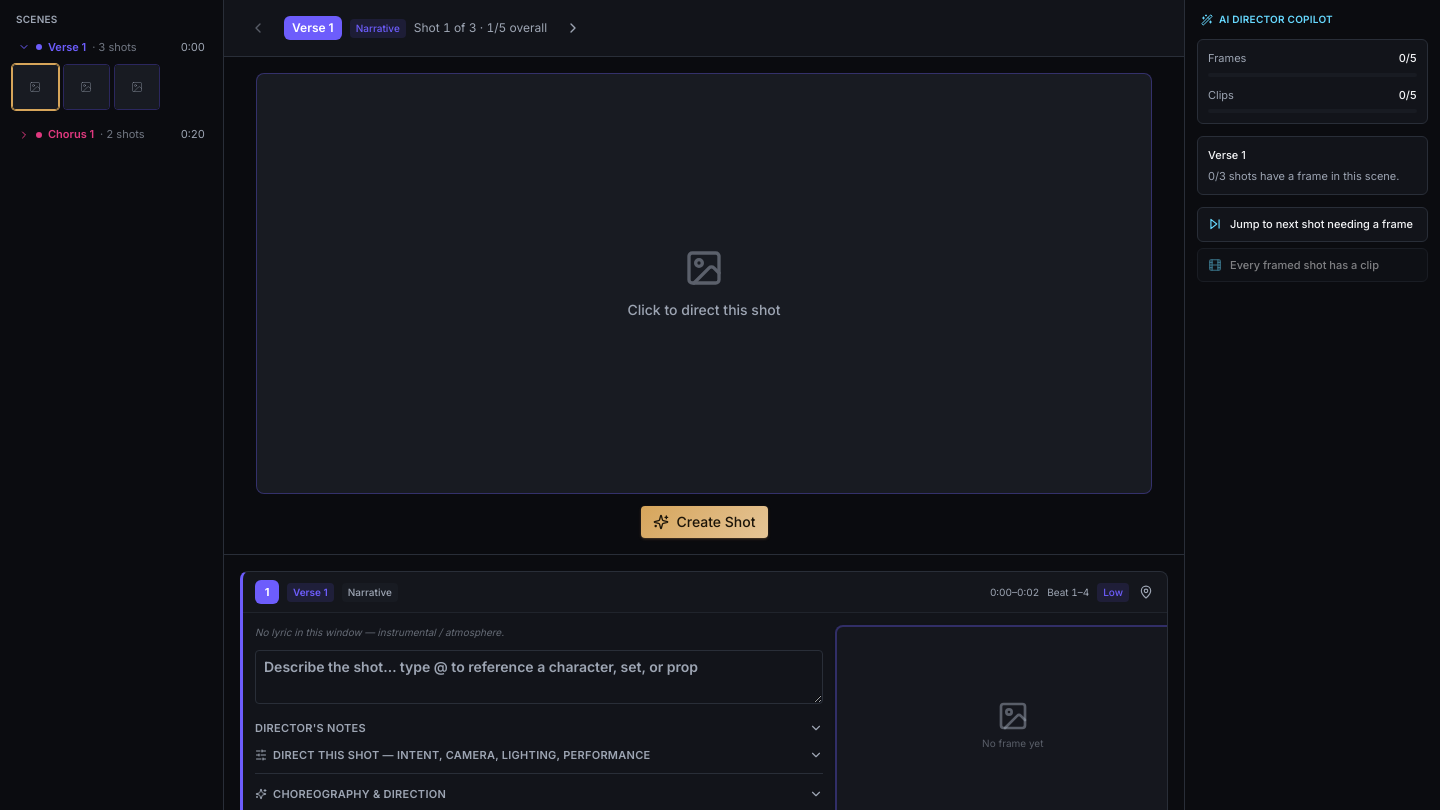
Test: DirectConsole scene rail › still lets a shot inside a collapsed section be reached by expanding it first
Click the button "Chorus 1 · 2 shots 0:20": (112, 135) [12,122,211,147]
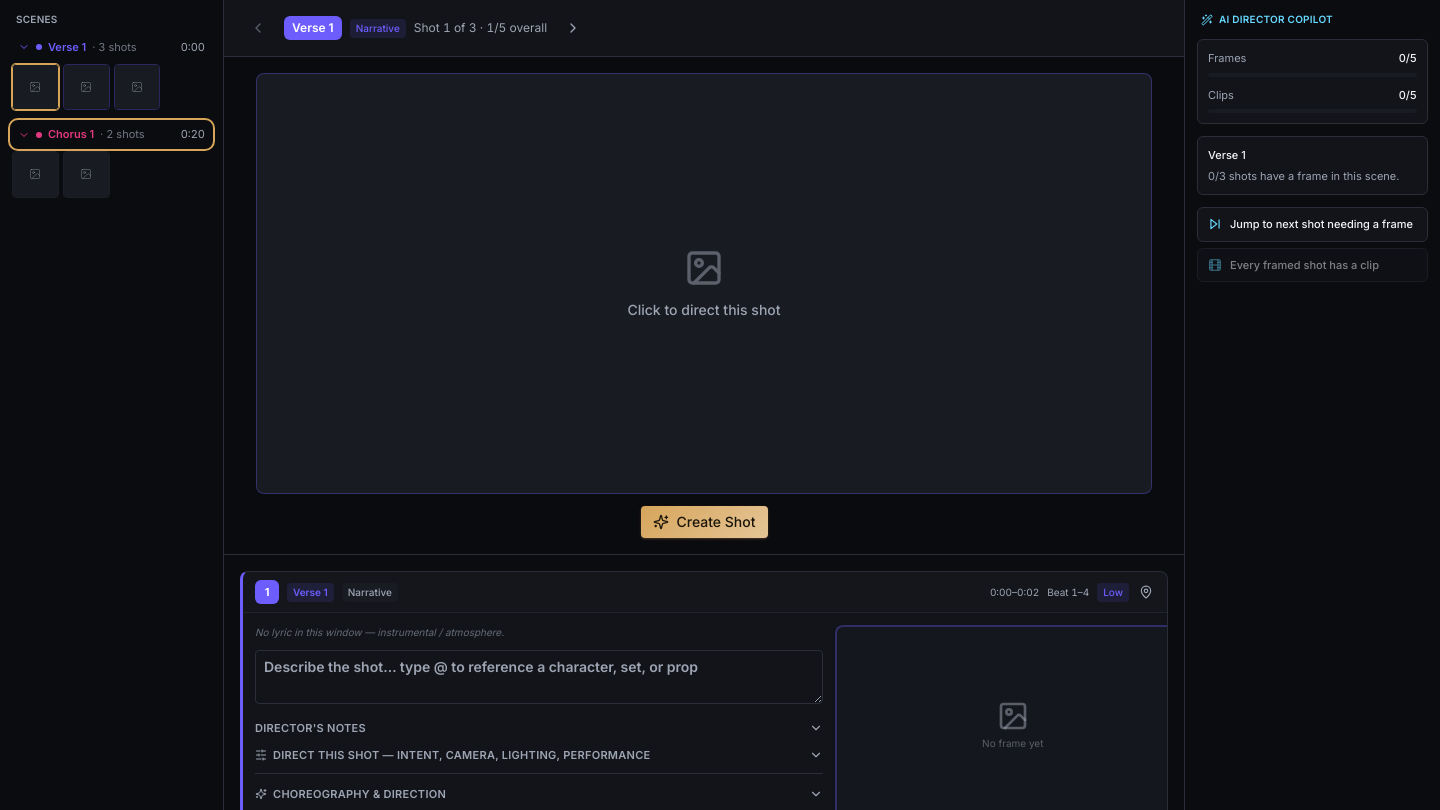
Result: the number of buttons named "Shot 1 · 0:20–0:22" is 2 at [12,151,59,198]; [63,151,110,198]
